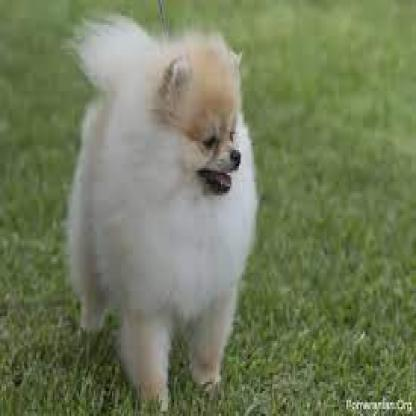Pomeranian: (62, 9, 260, 405)
